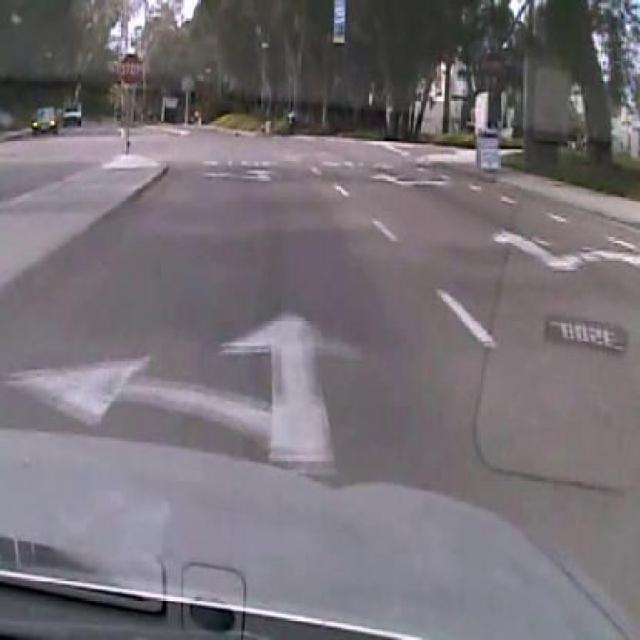Stop: (116, 52, 146, 90)
